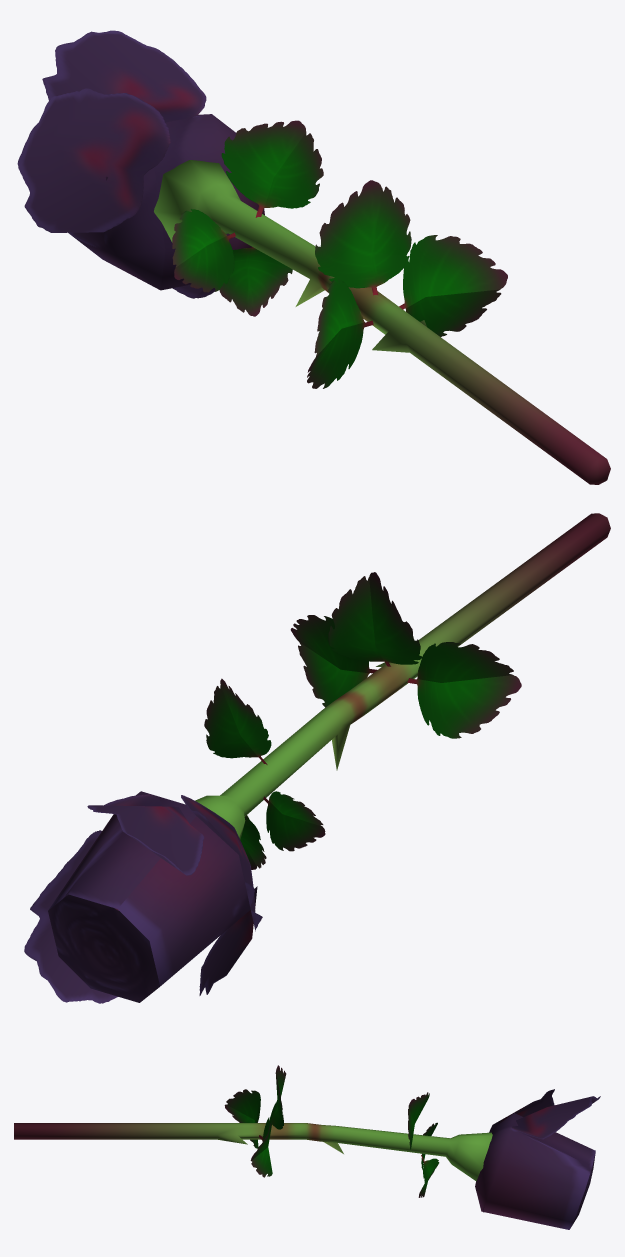
Rendered from SM_Rose_Black_Closed.fbx.
The picture shows the model from 3 angles, top to bottom: view 1: azimuth 30°, elevation 25°; view 2: azimuth 150°, elevation 25°; view 3: azimuth 270°, elevation 25°; orthographic projection. The views are drawn at different scales.
Parts seen in each view (by area): view 1: Rose_Black_Closed; view 2: Rose_Black_Closed; view 3: Rose_Black_Closed.
Boxes of the visible parts, left/top/right/bottom form: Rose_Black_Closed: left=17, top=30, right=610, bottom=484; Rose_Black_Closed: left=24, top=513, right=610, bottom=1003; Rose_Black_Closed: left=14, top=1065, right=600, bottom=1229.
Bounding box in the file's own units: 35.12 × 42.85 × 129.
